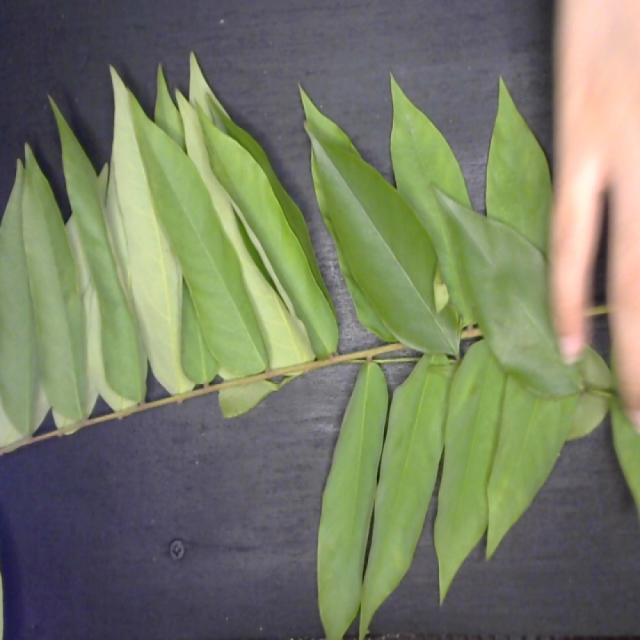biodegradable: (0, 41, 541, 639)
